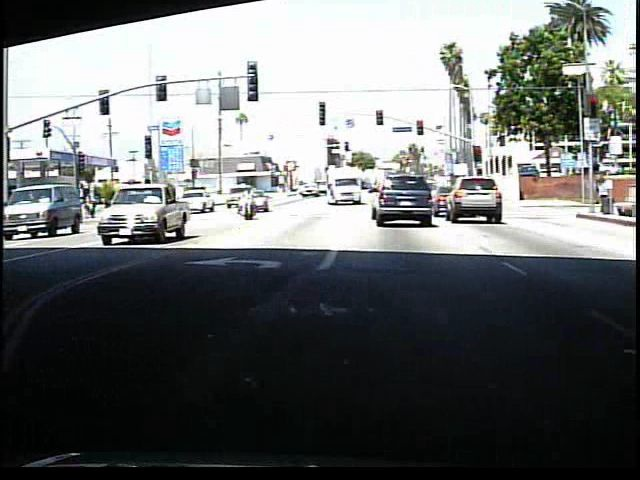person: (238, 185, 257, 220)
